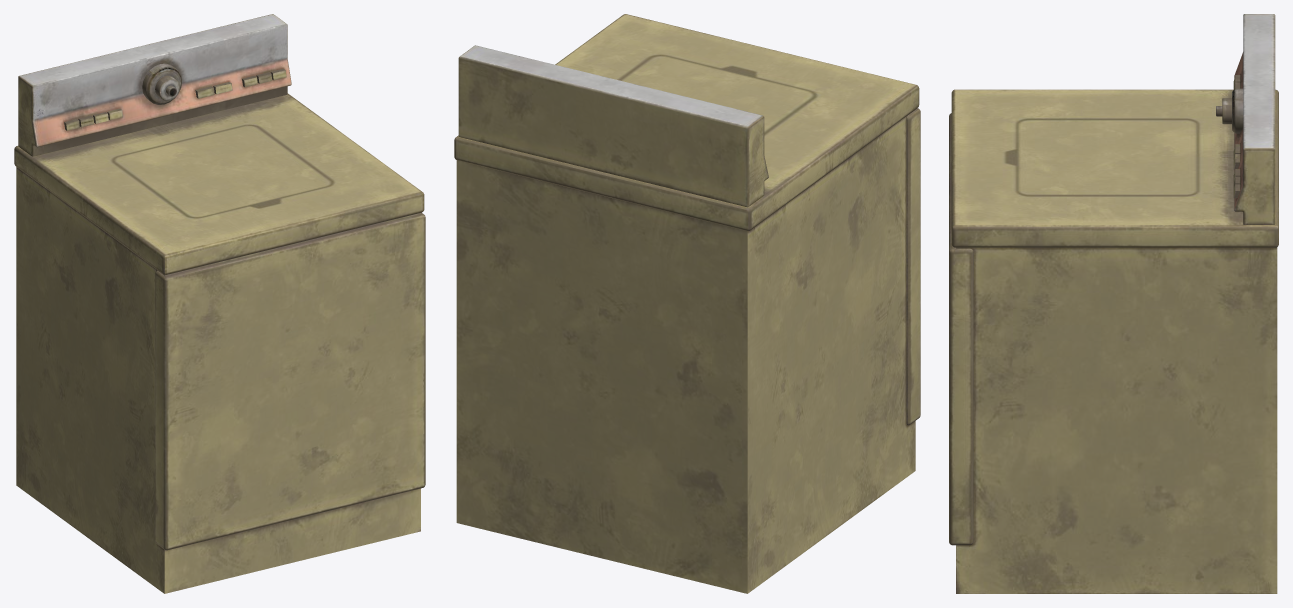
The model's file is washing-machine.glb.
The picture shows the model from 3 angles, left to right: view 1: azimuth 30°, elevation 25°; view 2: azimuth 150°, elevation 25°; view 3: azimuth 270°, elevation 25°; orthographic projection. The views are drawn at different scales.
Parts seen in each view (by area): view 1: low4; view 2: low4; view 3: low4.
Boxes of the visible parts, bbox=[...] form: low4: bbox=[14, 14, 425, 593]; low4: bbox=[454, 14, 920, 593]; low4: bbox=[949, 14, 1278, 593].
Bounding box in the file's own units: 0.8263 × 1.24 × 0.833.
1 material, 1 textured.
